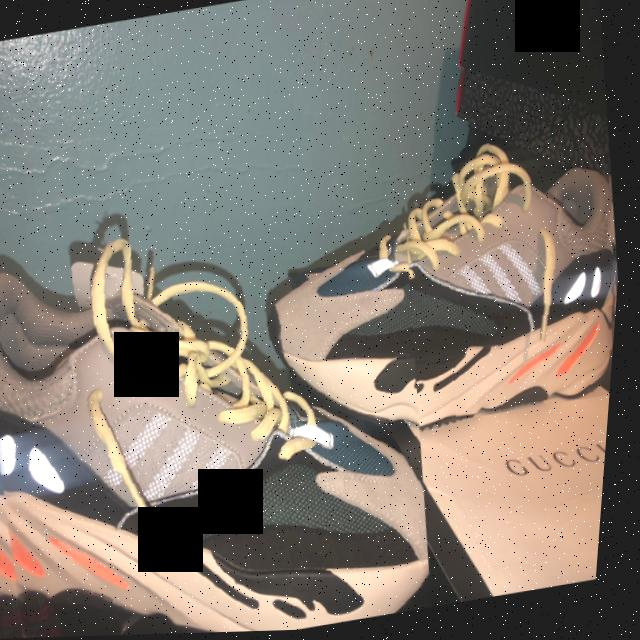shoe: (0, 147, 468, 640), (225, 99, 633, 456)
